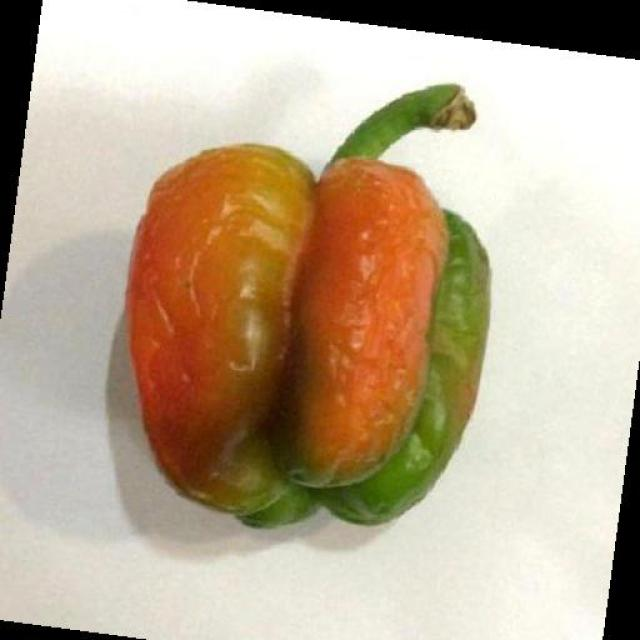Stale_Capsicum: (110, 64, 514, 570)
